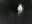person: (18, 4, 25, 18)
